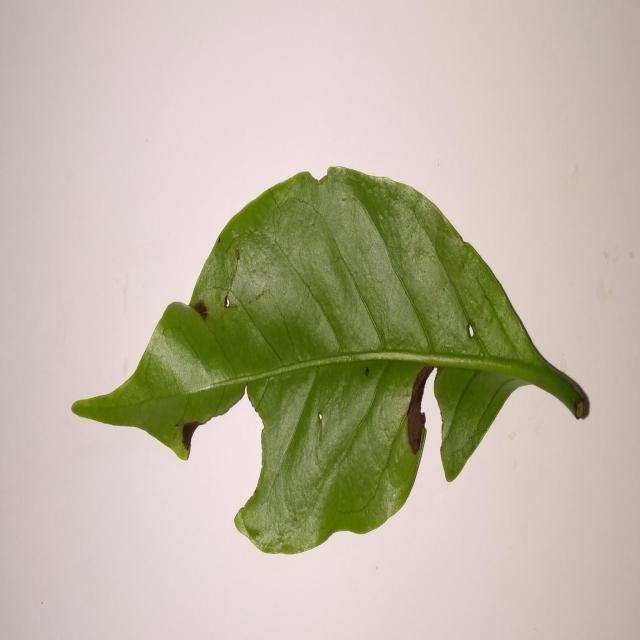Enfermedad-Antracnosis: (70, 166, 590, 559)
